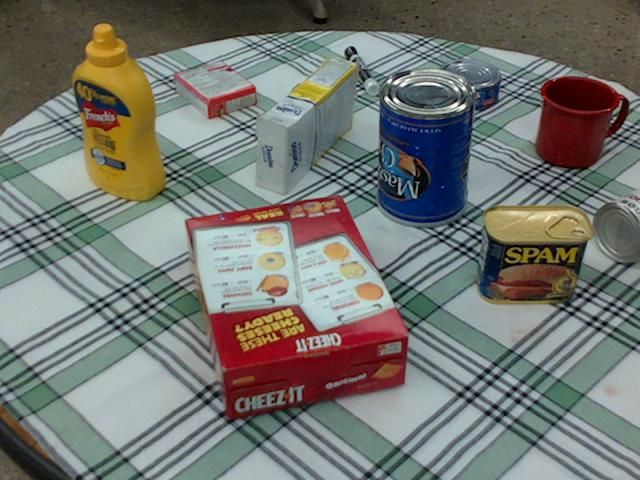cracker_box: (183, 195, 409, 419)
gelatin_box: (175, 61, 255, 118)
large_marker: (345, 45, 379, 94)
master_chef_can: (374, 68, 478, 225)
mug: (536, 76, 623, 168)
mustard_bottle: (73, 24, 164, 199)
potted_meat_can: (475, 205, 591, 304)
sugar_box: (256, 56, 357, 194)
tomato_soup_can: (593, 189, 639, 261)
tuna_fish_can: (437, 59, 501, 109)
